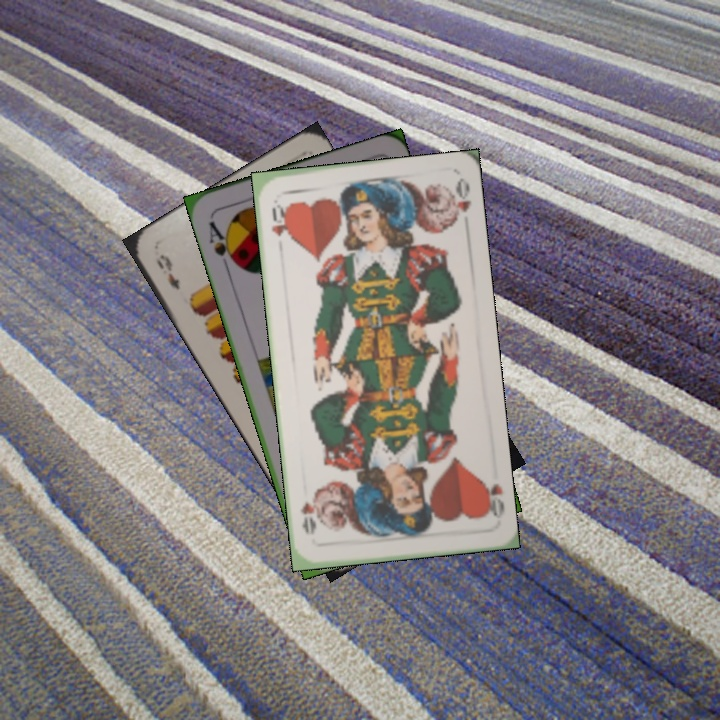E9: (152, 250, 183, 293)
HO: (477, 475, 508, 521), (267, 200, 292, 239)
SA: (204, 217, 240, 272)
